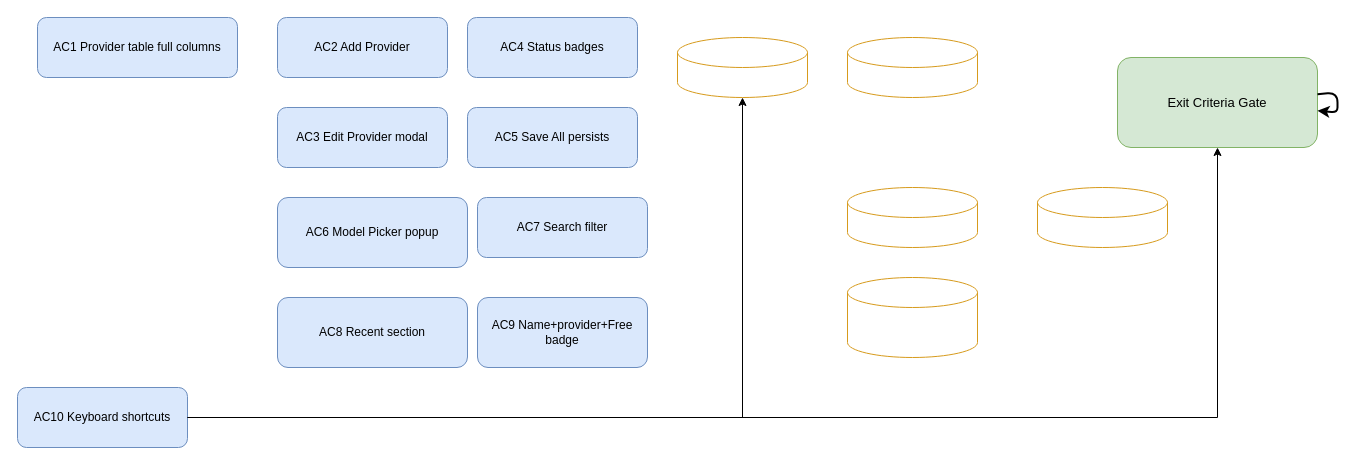
The diagram is 1364 pixels wide and 465 high, and some of its shapes have lost their labels. The shapes that lost their labels are listed below. From the top down, each one's box as (x1, y1, x2, y2) in pixels, then its label:
(676, 36, 808, 98): Unit Tests
(846, 36, 978, 98): Integration
(846, 186, 978, 248): Manual SIT
(1036, 186, 1168, 248): E2E
(846, 276, 978, 358): Static Checks
